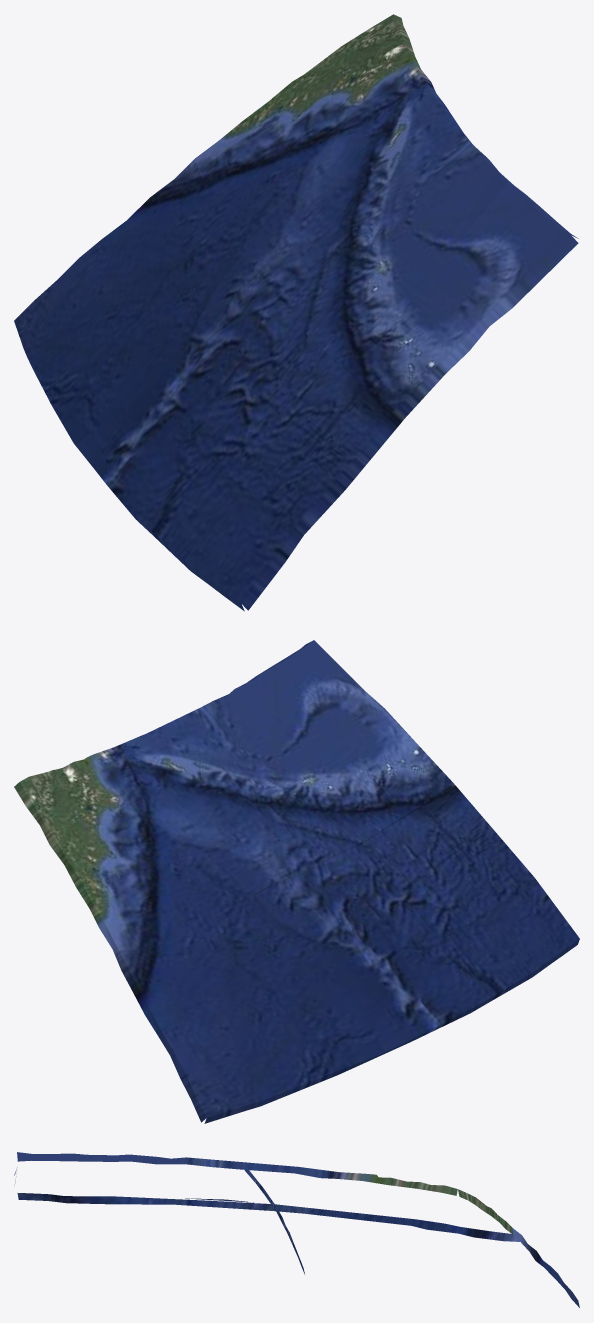
The picture shows the model from 3 angles, top to bottom: view 1: azimuth 30°, elevation 25°; view 2: azimuth 150°, elevation 25°; view 3: azimuth 270°, elevation 25°; orthographic projection. The views are drawn at different scales.
Size of the model in its own units: 1250292 by 832602 by 1749696.
1 material, 1 textured.
